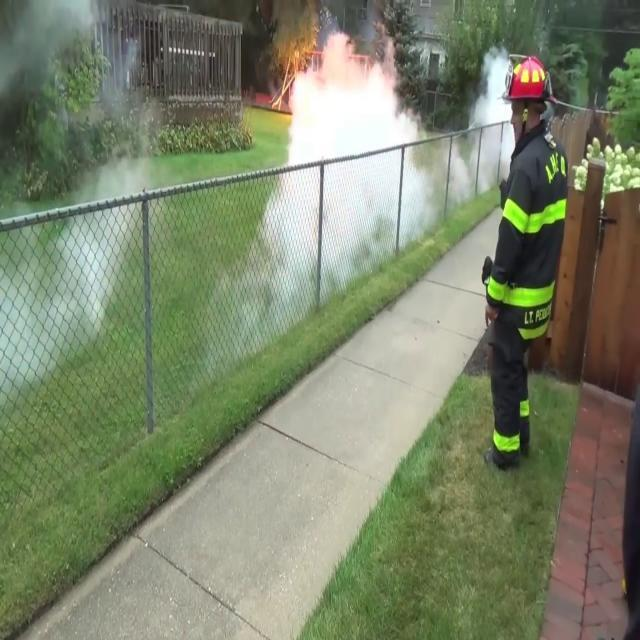Smoke: (273, 18, 422, 284), (0, 144, 168, 358), (442, 37, 518, 207)
